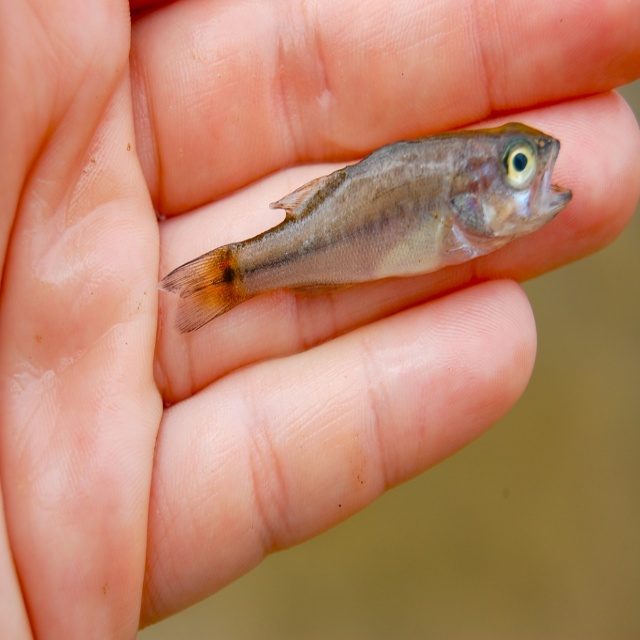Fish: (160, 112, 572, 337)
